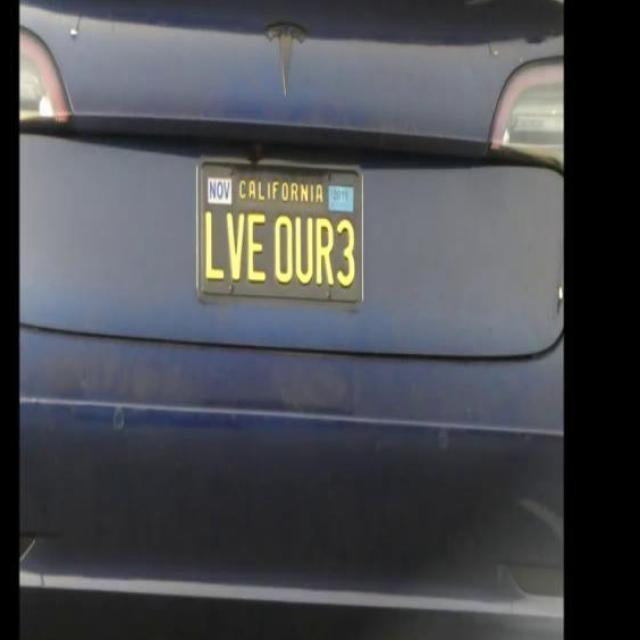license-plate: (173, 139, 399, 316)
